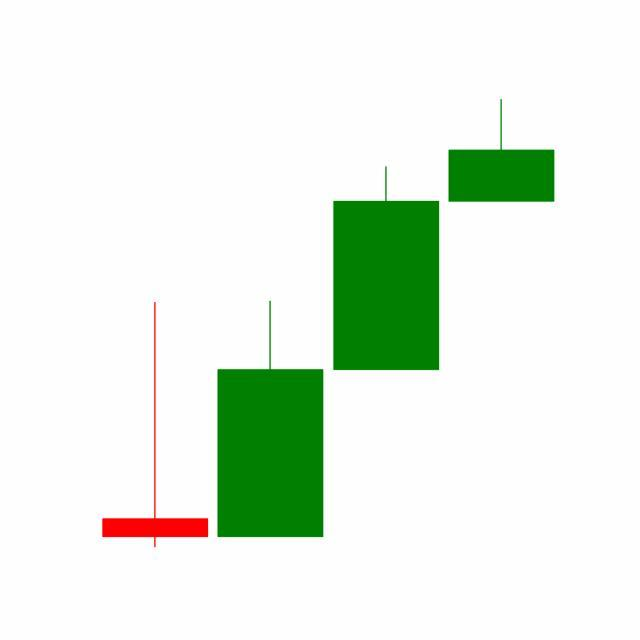Marubozu: (329, 164, 445, 372)
